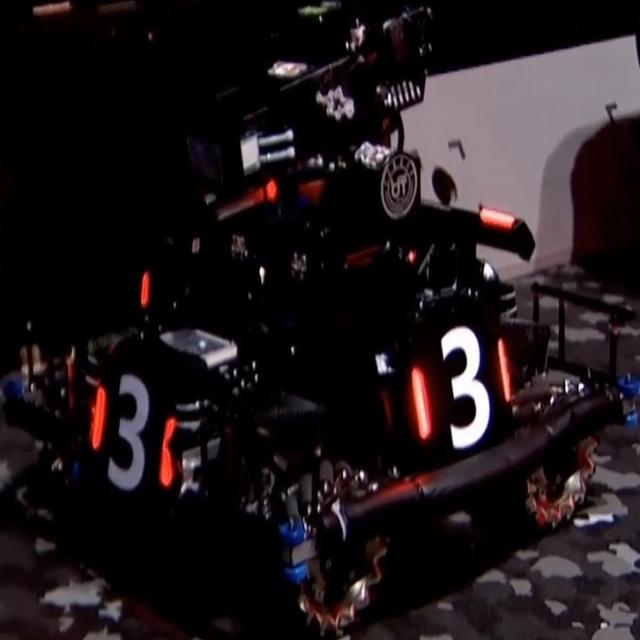R3: (411, 326, 517, 454), (91, 372, 175, 492)
